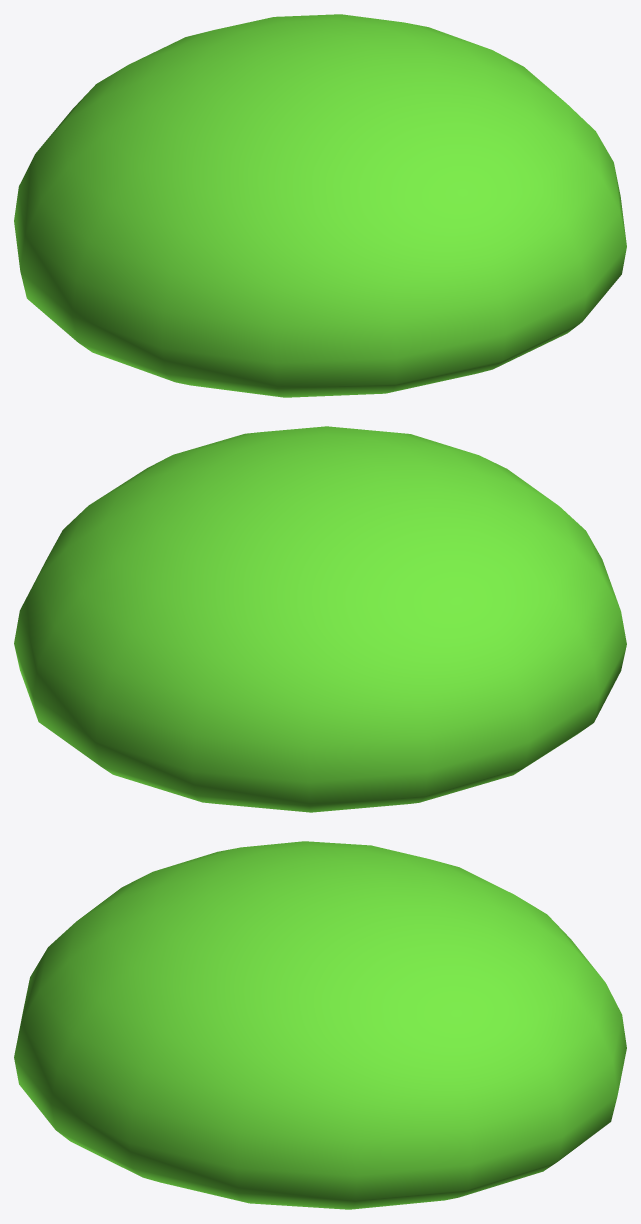
The model's file is sm_feuille1.fbx.
The picture shows the model from 3 angles, top to bottom: view 1: azimuth 30°, elevation 25°; view 2: azimuth 150°, elevation 25°; view 3: azimuth 270°, elevation 25°; orthographic projection. The views are drawn at different scales.
Parts seen in each view (by area): view 1: bouquetFeuilles1; view 2: bouquetFeuilles1; view 3: bouquetFeuilles1.
Part boxes in pixels (x1,y1,x2,y2): bouquetFeuilles1: (14,14,626,397); bouquetFeuilles1: (14,426,626,812); bouquetFeuilles1: (14,841,626,1209).
Size of the model in its own units: 444 by 212 by 455.
